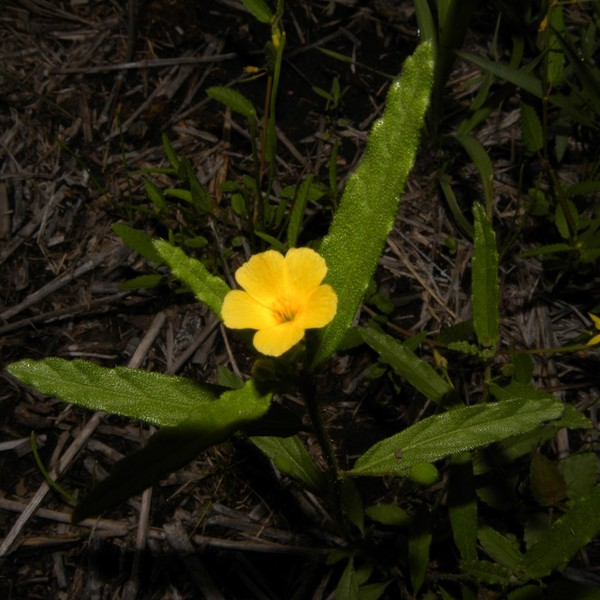obstacle: (57, 75, 548, 526)
